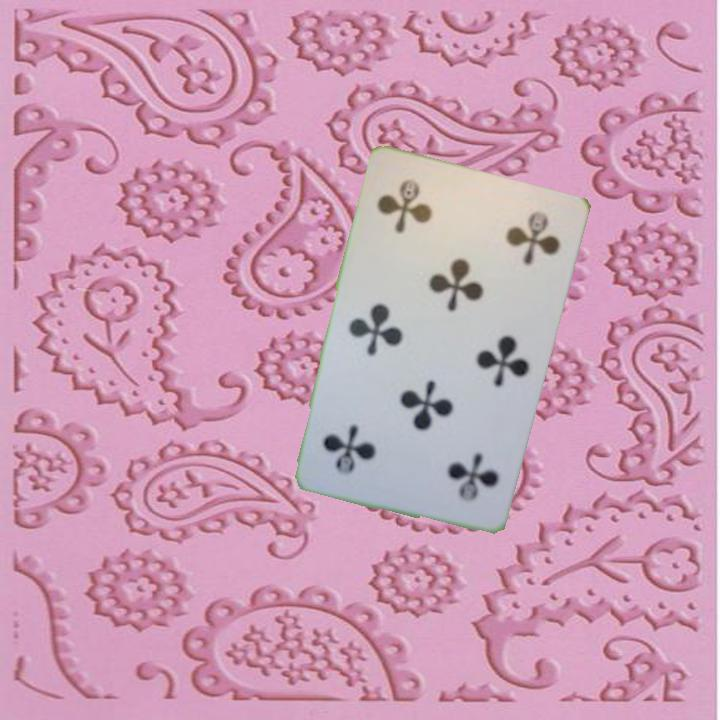c_8.png: (393, 414, 511, 522), (363, 162, 481, 270)
